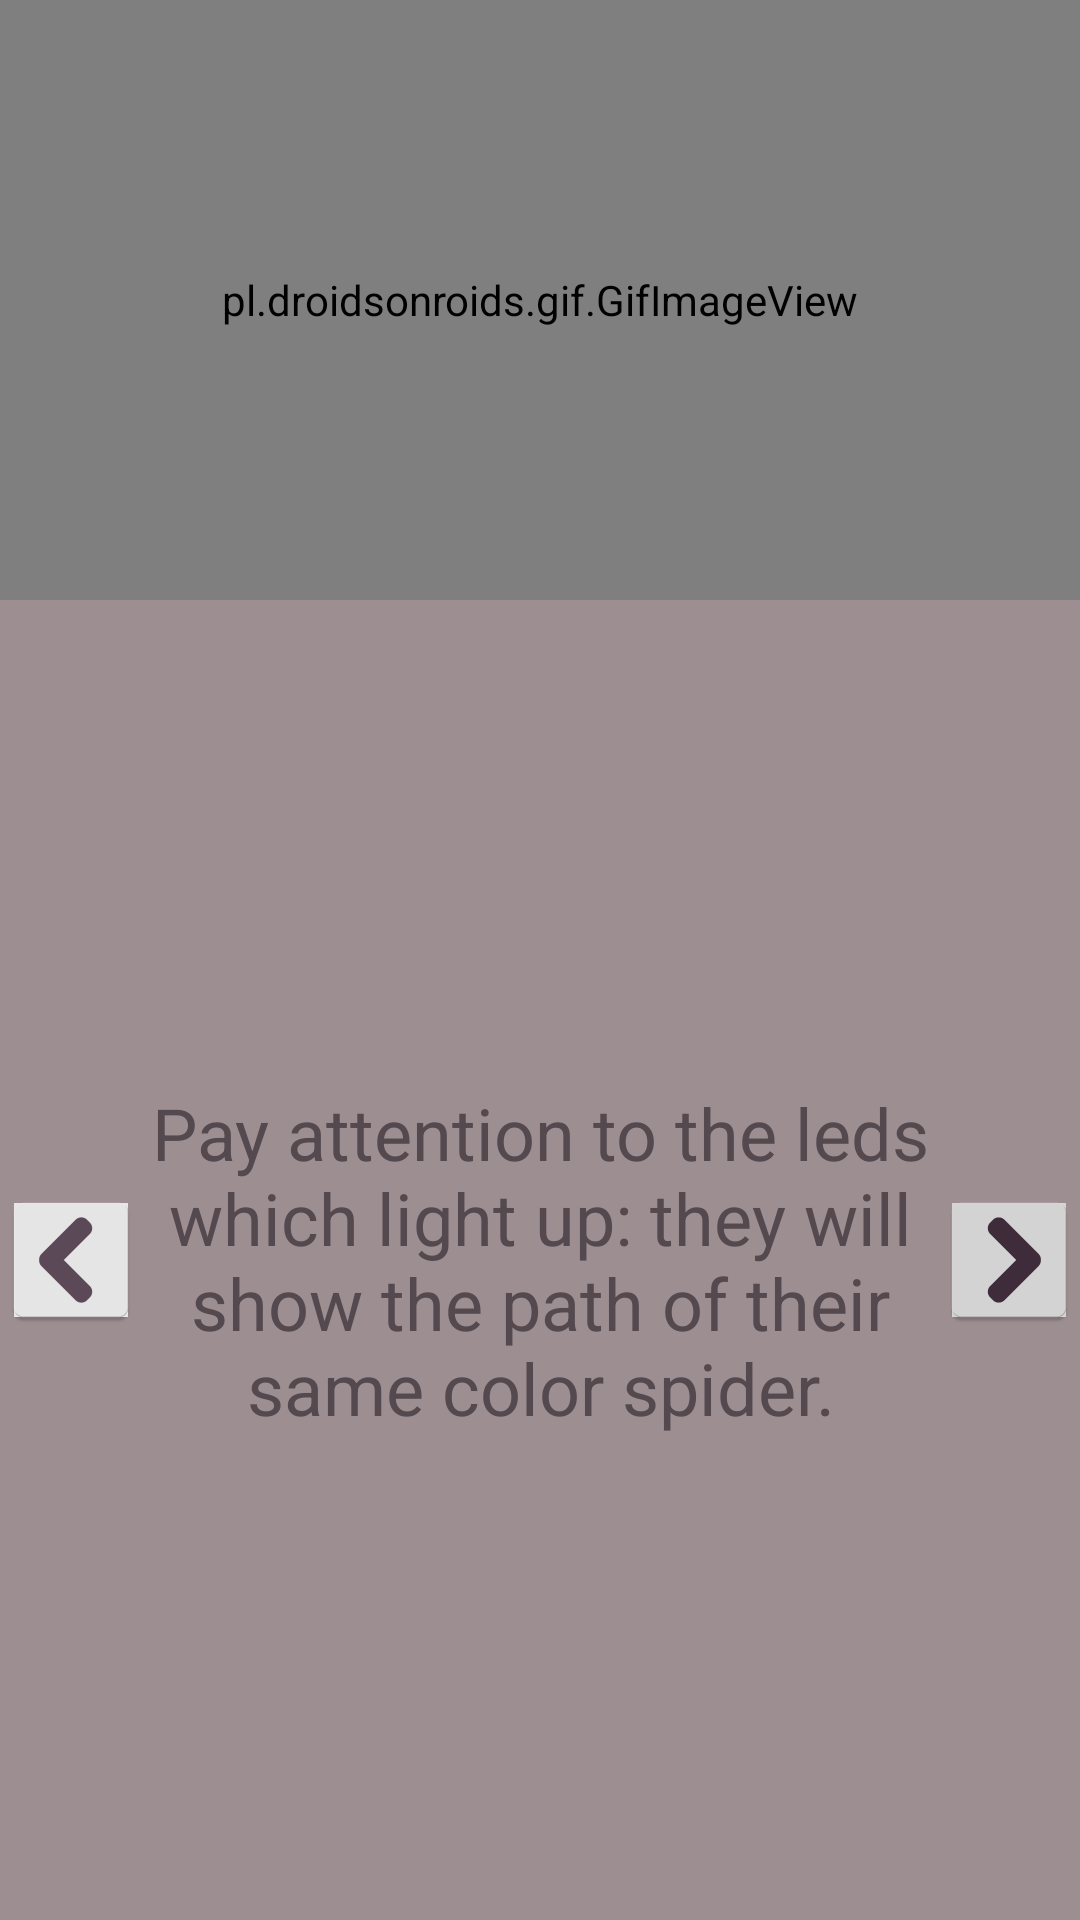

Point at icon controls on the screen. Image size 1080×1920, points as (x=x, y=y).
avanti: (x=1009, y=1261)
indietro: (x=71, y=1261)
